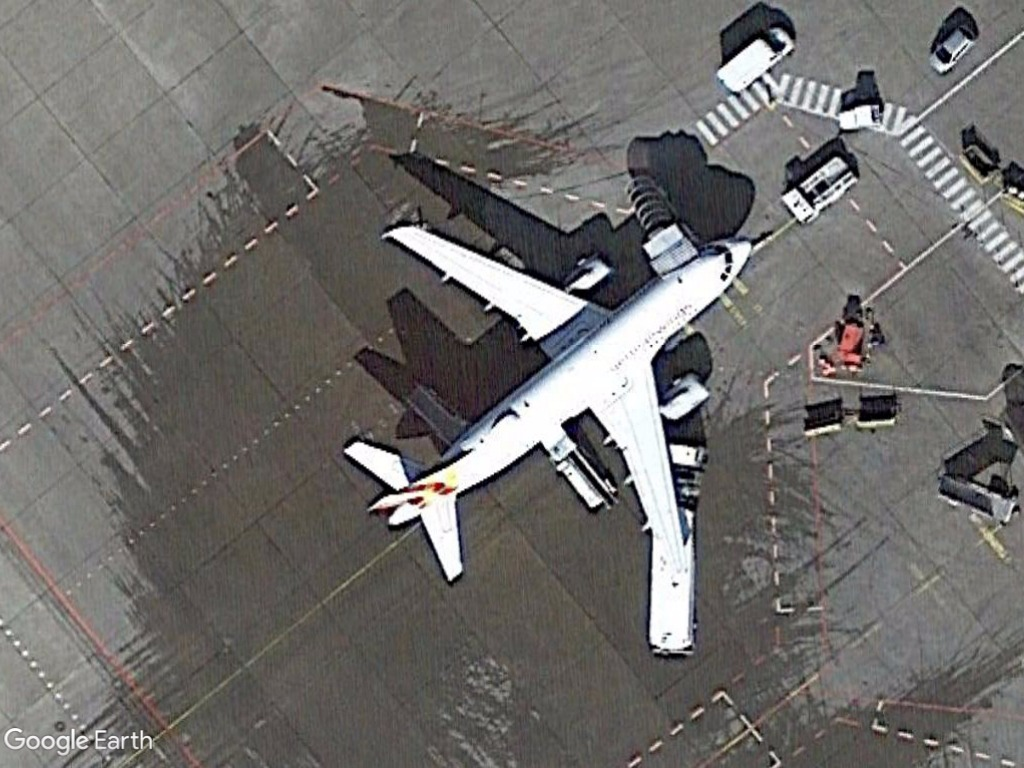airliner: (338, 210, 756, 597)
car: (924, 24, 977, 79)
pushbacktruck: (776, 151, 863, 232)
stairtruck: (936, 464, 1018, 531)
van: (713, 24, 799, 96)
